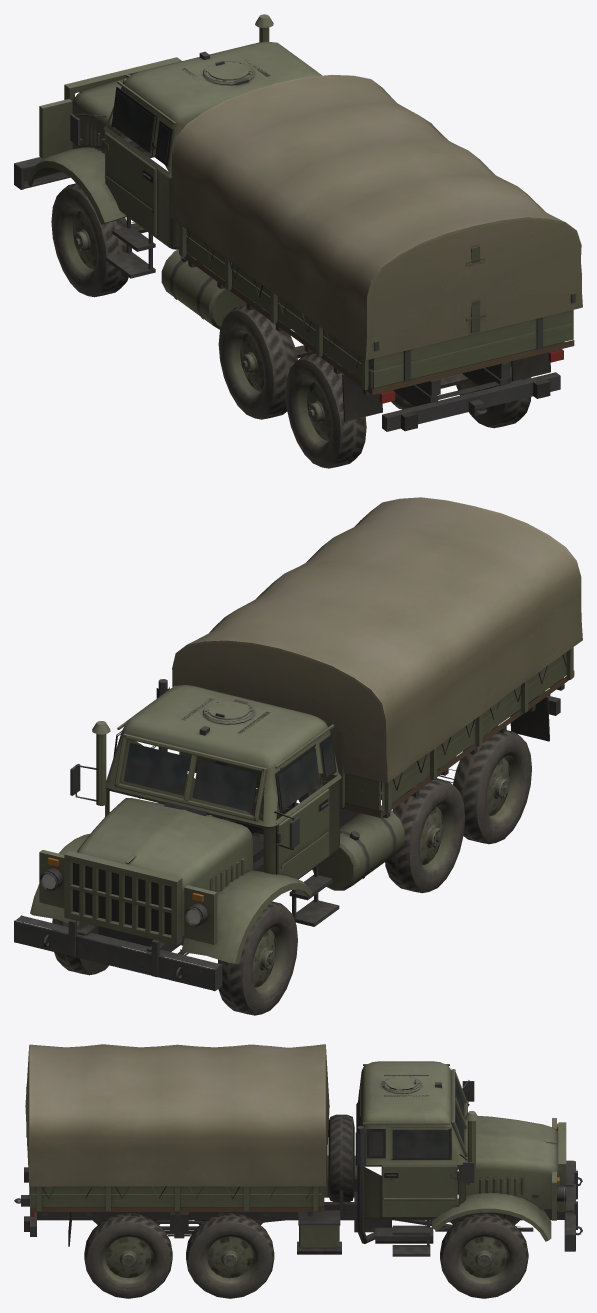
File: truck_covered.glb
3 views of the same model, one above another, from view 1: azimuth 30°, elevation 25°; view 2: azimuth 150°, elevation 25°; view 3: azimuth 270°, elevation 25° (orthographic). The views are drawn at different scales.
Visible parts, largest first — view 1: body; view 2: body; view 3: body.
Part boxes in pixels (x1,y1,x2,y2): body: [14, 14, 582, 468]; body: [14, 497, 582, 1015]; body: [14, 1044, 582, 1298].
Size of the model in its own units: 2.68 by 3.06 by 7.84.
Materials: 1 (1 with a texture image).
